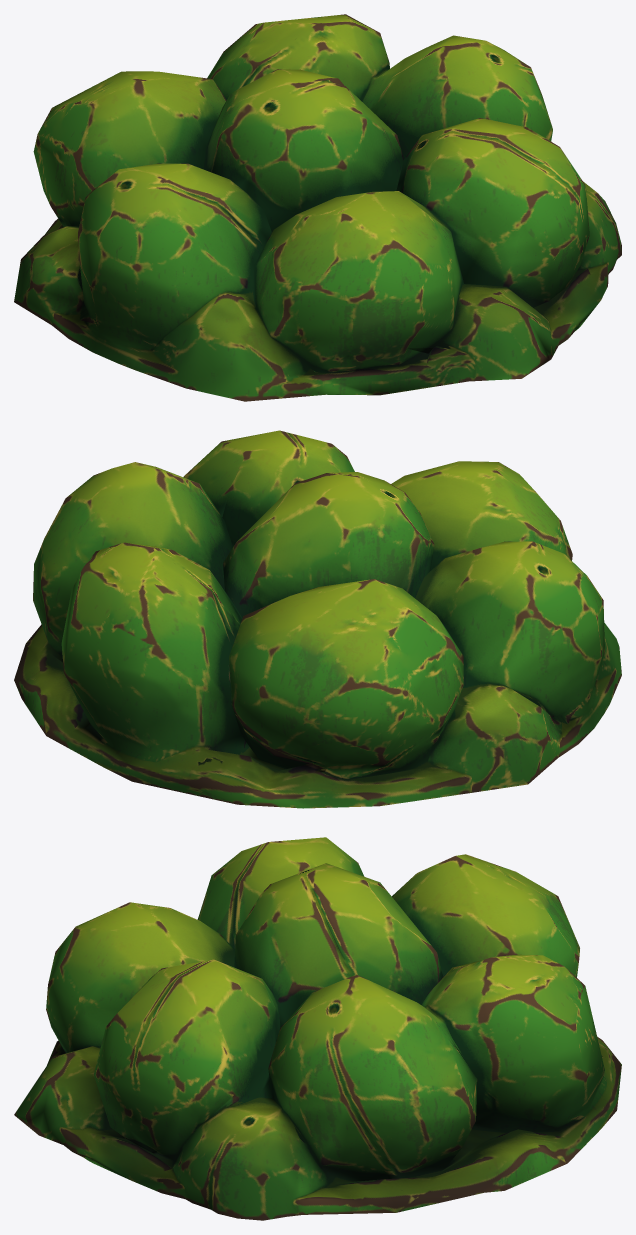
The model's file is Coconuts.fbx.
3 renders of one model, top to bottom at view 1: azimuth 30°, elevation 25°; view 2: azimuth 150°, elevation 25°; view 3: azimuth 270°, elevation 25°, orthographic. The views are drawn at different scales.
Parts seen in each view (by area): view 1: Coconuts_LOD0; view 2: Coconuts_LOD0; view 3: Coconuts_LOD0.
Part boxes in pixels (<box>): Coconuts_LOD0: <box>14,14,621,401</box>; Coconuts_LOD0: <box>14,430,621,808</box>; Coconuts_LOD0: <box>14,837,621,1220</box>.
Size of what is drawn, in the model's own units: 0.5172 by 0.196 by 0.5239.
1 material, 1 textured.
